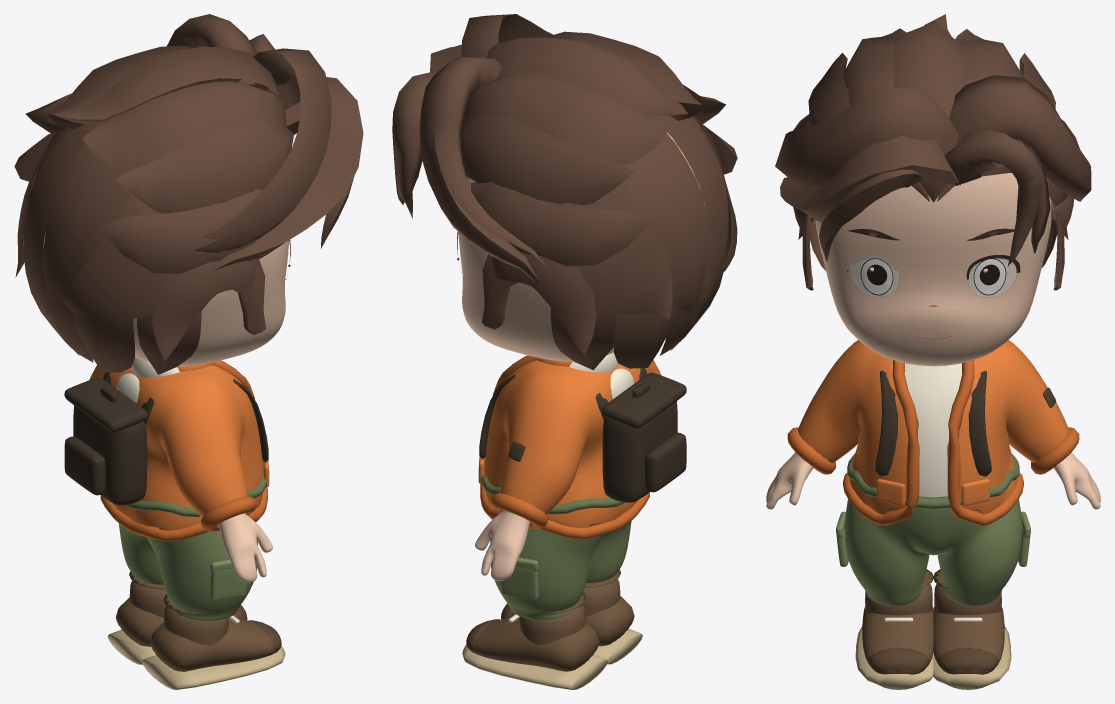
The model's file is character_chibi_b.glb.
3 views of the same model, side by side, from view 1: azimuth 30°, elevation 25°; view 2: azimuth 150°, elevation 25°; view 3: azimuth 270°, elevation 25° (orthographic).
Visible parts, largest first — view 1: SM_Hair_Base_03_L, SM_Hair_Bangs_08_L, jacket, backpack, Chibi_Base_Mesh2, boots, pants, soles, jacket_trim, cargo_pockets, jacket_cuffs, hood (+1 smaller); view 2: SM_Hair_Base_03_L, jacket, SM_Hair_Bangs_08_L, backpack, Chibi_Base_Mesh2, boots, pants, soles, jacket_trim, cargo_pockets, jacket_cuffs, hood (+1 smaller); view 3: SM_Hair_Bangs_08_L, Chibi_Base_Mesh2, jacket, SM_Hair_Base_03_L, pants, boots, jacket_trim, inner_hoodie, backpack, soles, boot_toecaps, jacket_cuffs (+6 smaller).
Boxes of the visible parts, x1=… form: SM_Hair_Base_03_L: x1=14, y1=45, x2=294, y2=374; SM_Hair_Bangs_08_L: x1=167, y1=14, x2=363, y2=272; jacket: x1=89, y1=365, x2=263, y2=530; backpack: x1=64, y1=372, x2=268, y2=505; Chibi_Base_Mesh2: x1=43, y1=232, x2=289, y2=582; boots: x1=115, y1=571, x2=279, y2=671; pants: x1=118, y1=523, x2=257, y2=620; soles: x1=107, y1=620, x2=285, y2=689; jacket_trim: x1=100, y1=360, x2=267, y2=541; cargo_pockets: x1=210, y1=559, x2=246, y2=601; jacket_cuffs: x1=201, y1=496, x2=256, y2=531; hood: x1=116, y1=357, x2=179, y2=403; SM_Hair_Base_03_L: x1=460, y1=31, x2=737, y2=370; jacket: x1=484, y1=360, x2=661, y2=527; SM_Hair_Bangs_08_L: x1=392, y1=14, x2=553, y2=283; backpack: x1=479, y1=368, x2=686, y2=502; Chibi_Base_Mesh2: x1=458, y1=133, x2=705, y2=580; boots: x1=468, y1=569, x2=634, y2=671; pants: x1=490, y1=521, x2=631, y2=619; soles: x1=462, y1=619, x2=642, y2=689; jacket_trim: x1=480, y1=355, x2=649, y2=539; cargo_pockets: x1=501, y1=557, x2=538, y2=599; jacket_cuffs: x1=491, y1=493, x2=547, y2=529; hood: x1=569, y1=352, x2=633, y2=398; SM_Hair_Bangs_08_L: x1=775, y1=75, x2=1091, y2=265; Chibi_Base_Mesh2: x1=766, y1=173, x2=1100, y2=509; jacket: x1=798, y1=340, x2=1068, y2=514; SM_Hair_Base_03_L: x1=792, y1=14, x2=1079, y2=290; pants: x1=844, y1=499, x2=1022, y2=606; boots: x1=862, y1=569, x2=1004, y2=674; jacket_trim: x1=843, y1=360, x2=1023, y2=525; inner_hoodie: x1=904, y1=363, x2=962, y2=497; backpack: x1=875, y1=370, x2=991, y2=476; soles: x1=855, y1=626, x2=1011, y2=689; boot_toecaps: x1=868, y1=647, x2=998, y2=673; jacket_cuffs: x1=787, y1=427, x2=1079, y2=474.
Size of the model in its own units: 0.5754 by 1.16 by 0.5713.
